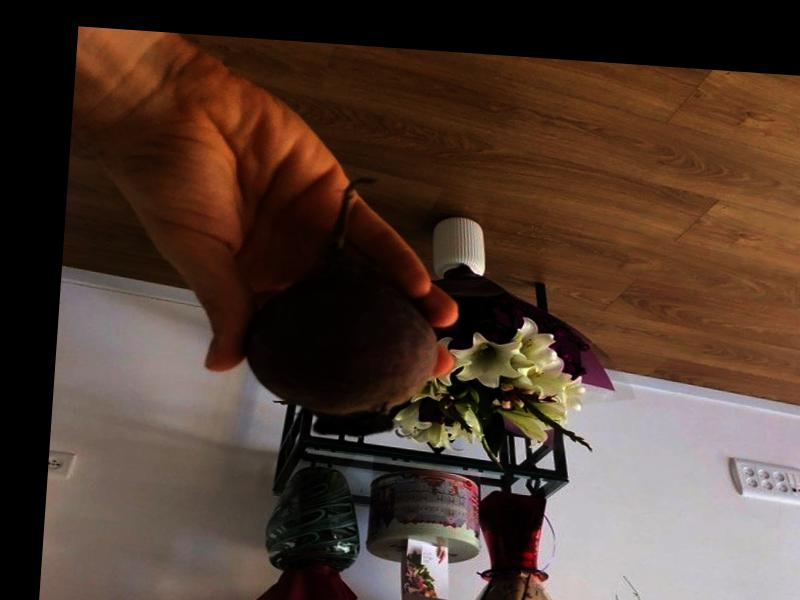Beet: (240, 171, 450, 441)
